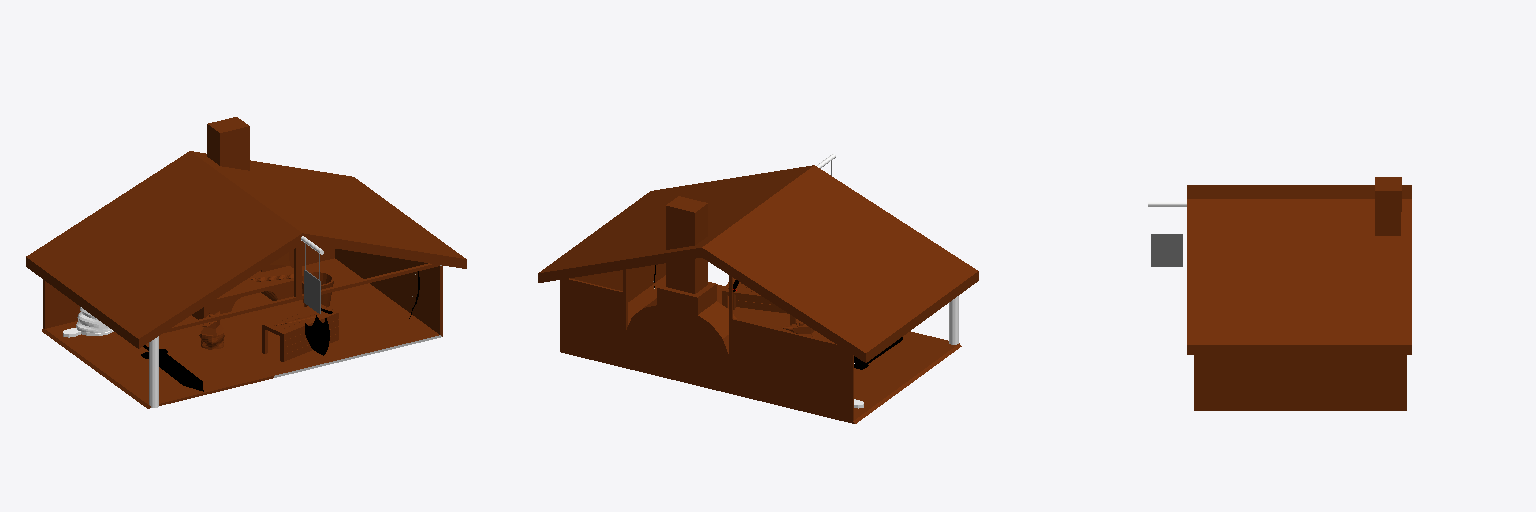
File: Forge.obj
The picture shows the model from 3 angles: view 1: azimuth 30°, elevation 25°; view 2: azimuth 150°, elevation 25°; view 3: azimuth 270°, elevation 25°; orthographic projection.
Parts seen in each view (by area): view 1: default; view 2: default; view 3: default.
Part boxes in pixels (x1,y1,x2,y2): default: (26, 117, 466, 408); default: (538, 154, 978, 423); default: (1148, 177, 1411, 410).
Size of the model in its own units: 82.43 by 40.75 by 57.48.